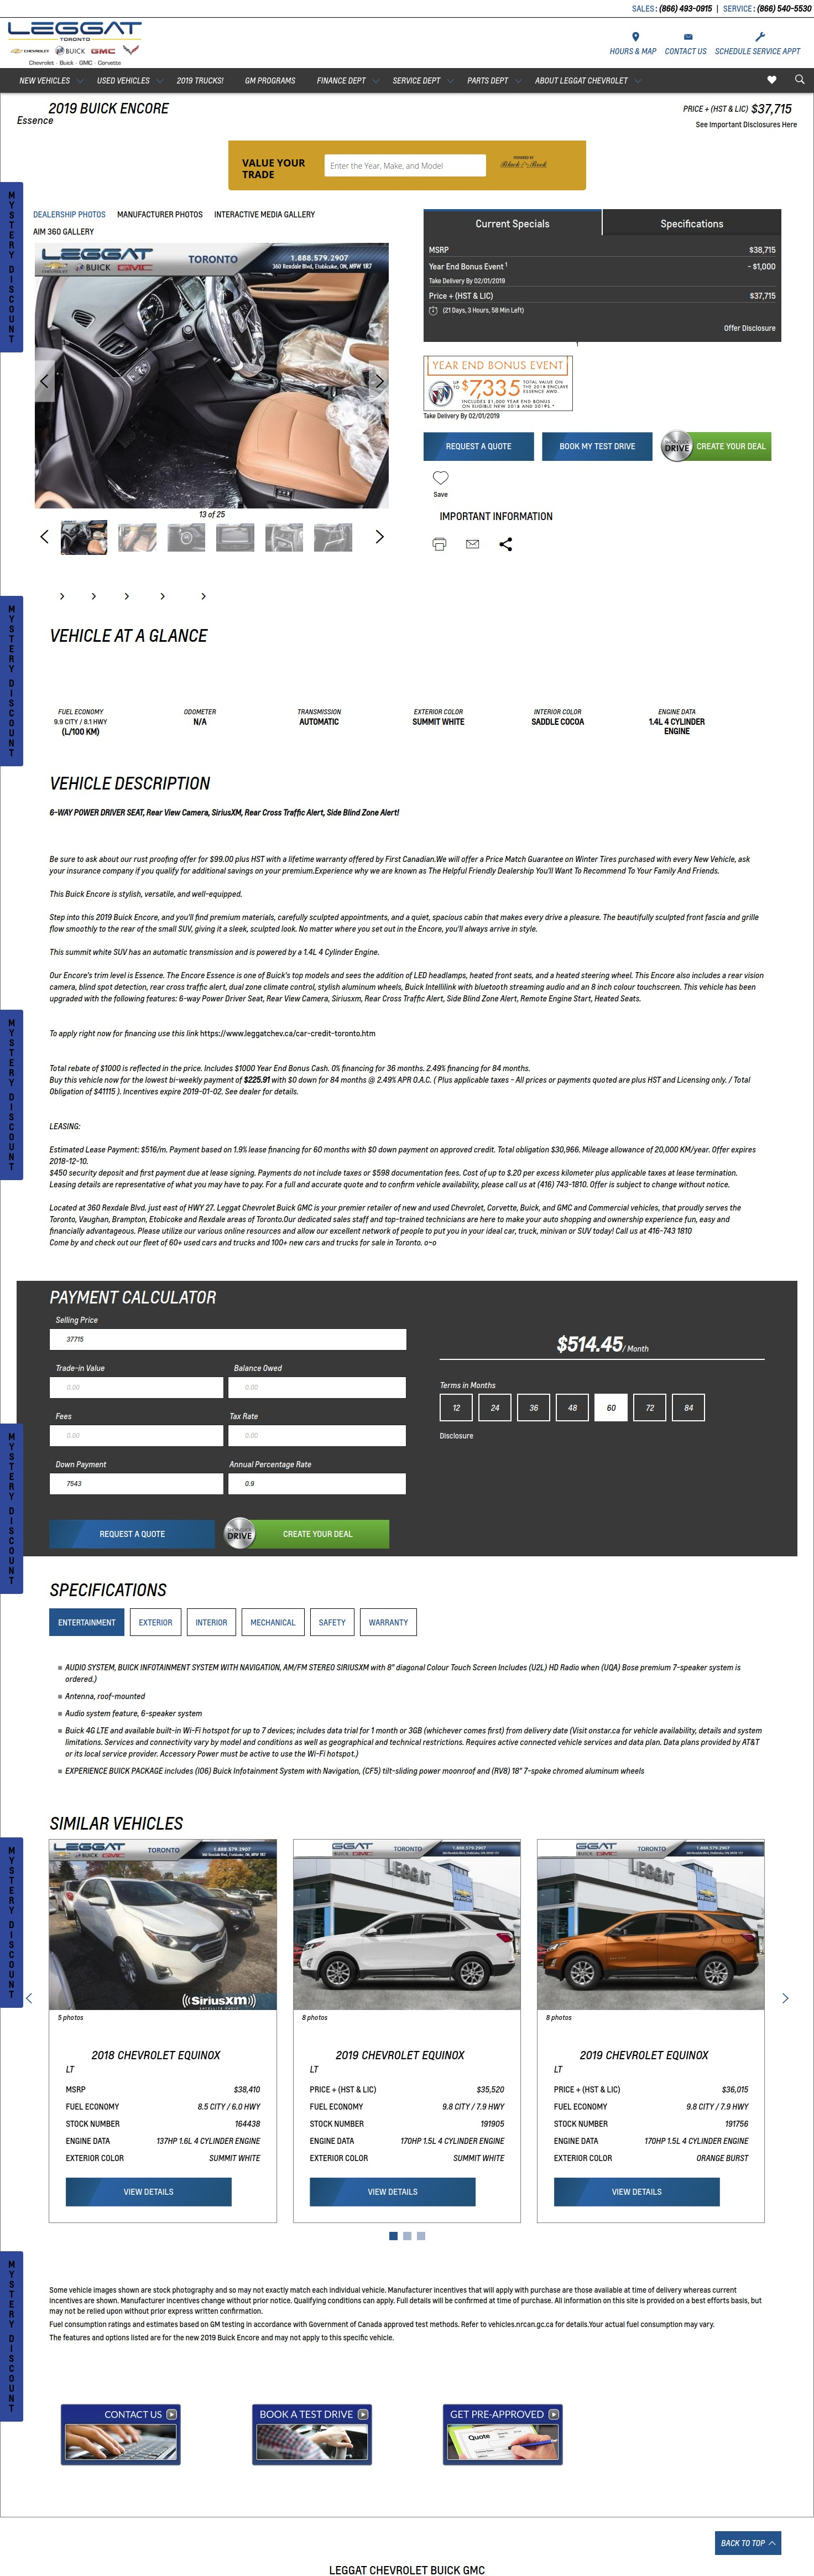car: (376, 531, 386, 544)
